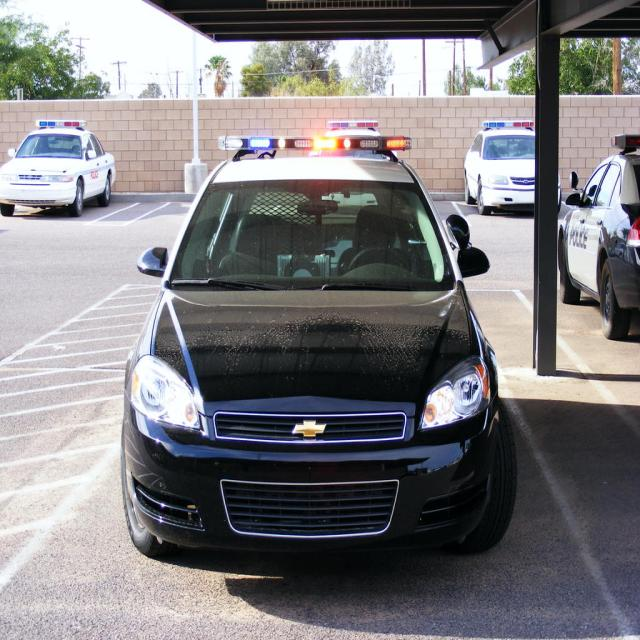car: (107, 119, 502, 569)
